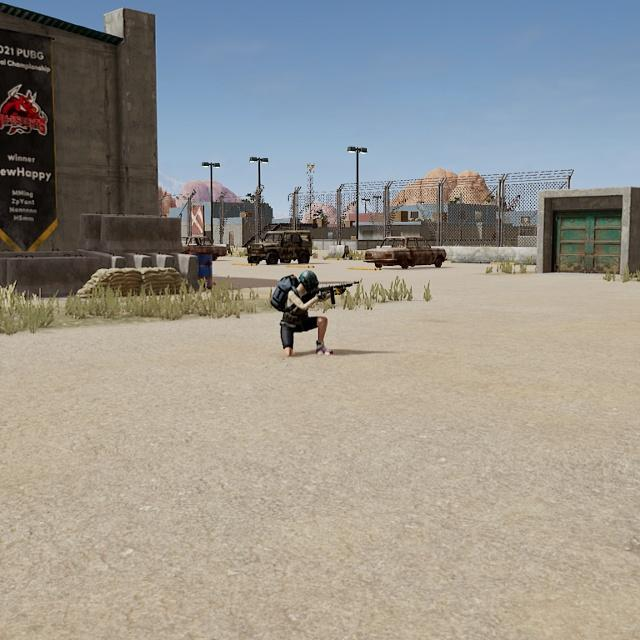head: (295, 267, 322, 298)
people: (272, 264, 338, 361)
